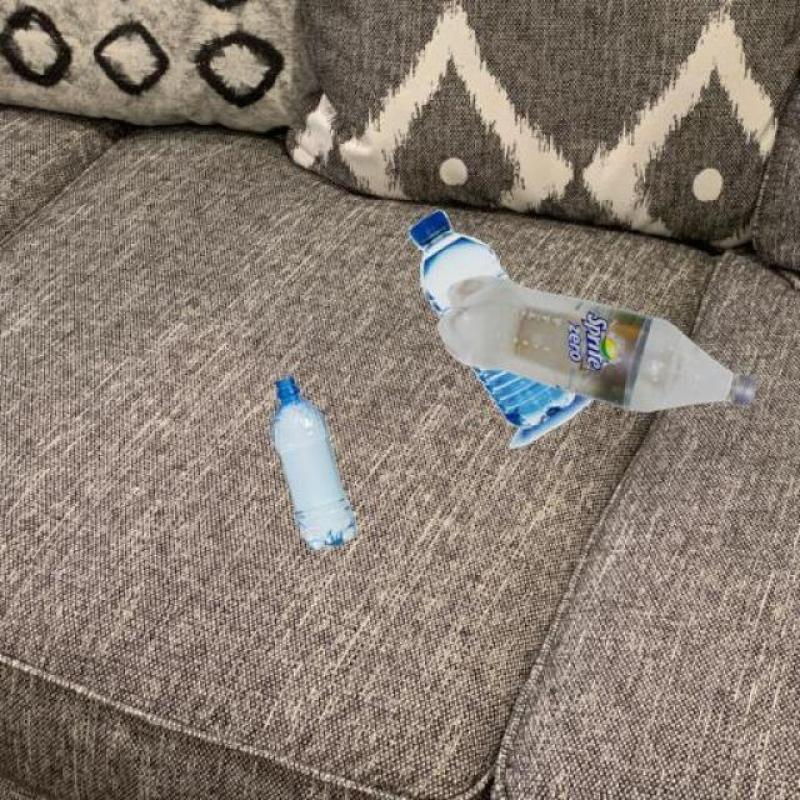botella: (438, 274, 762, 418), (410, 212, 580, 426), (270, 374, 356, 552)
